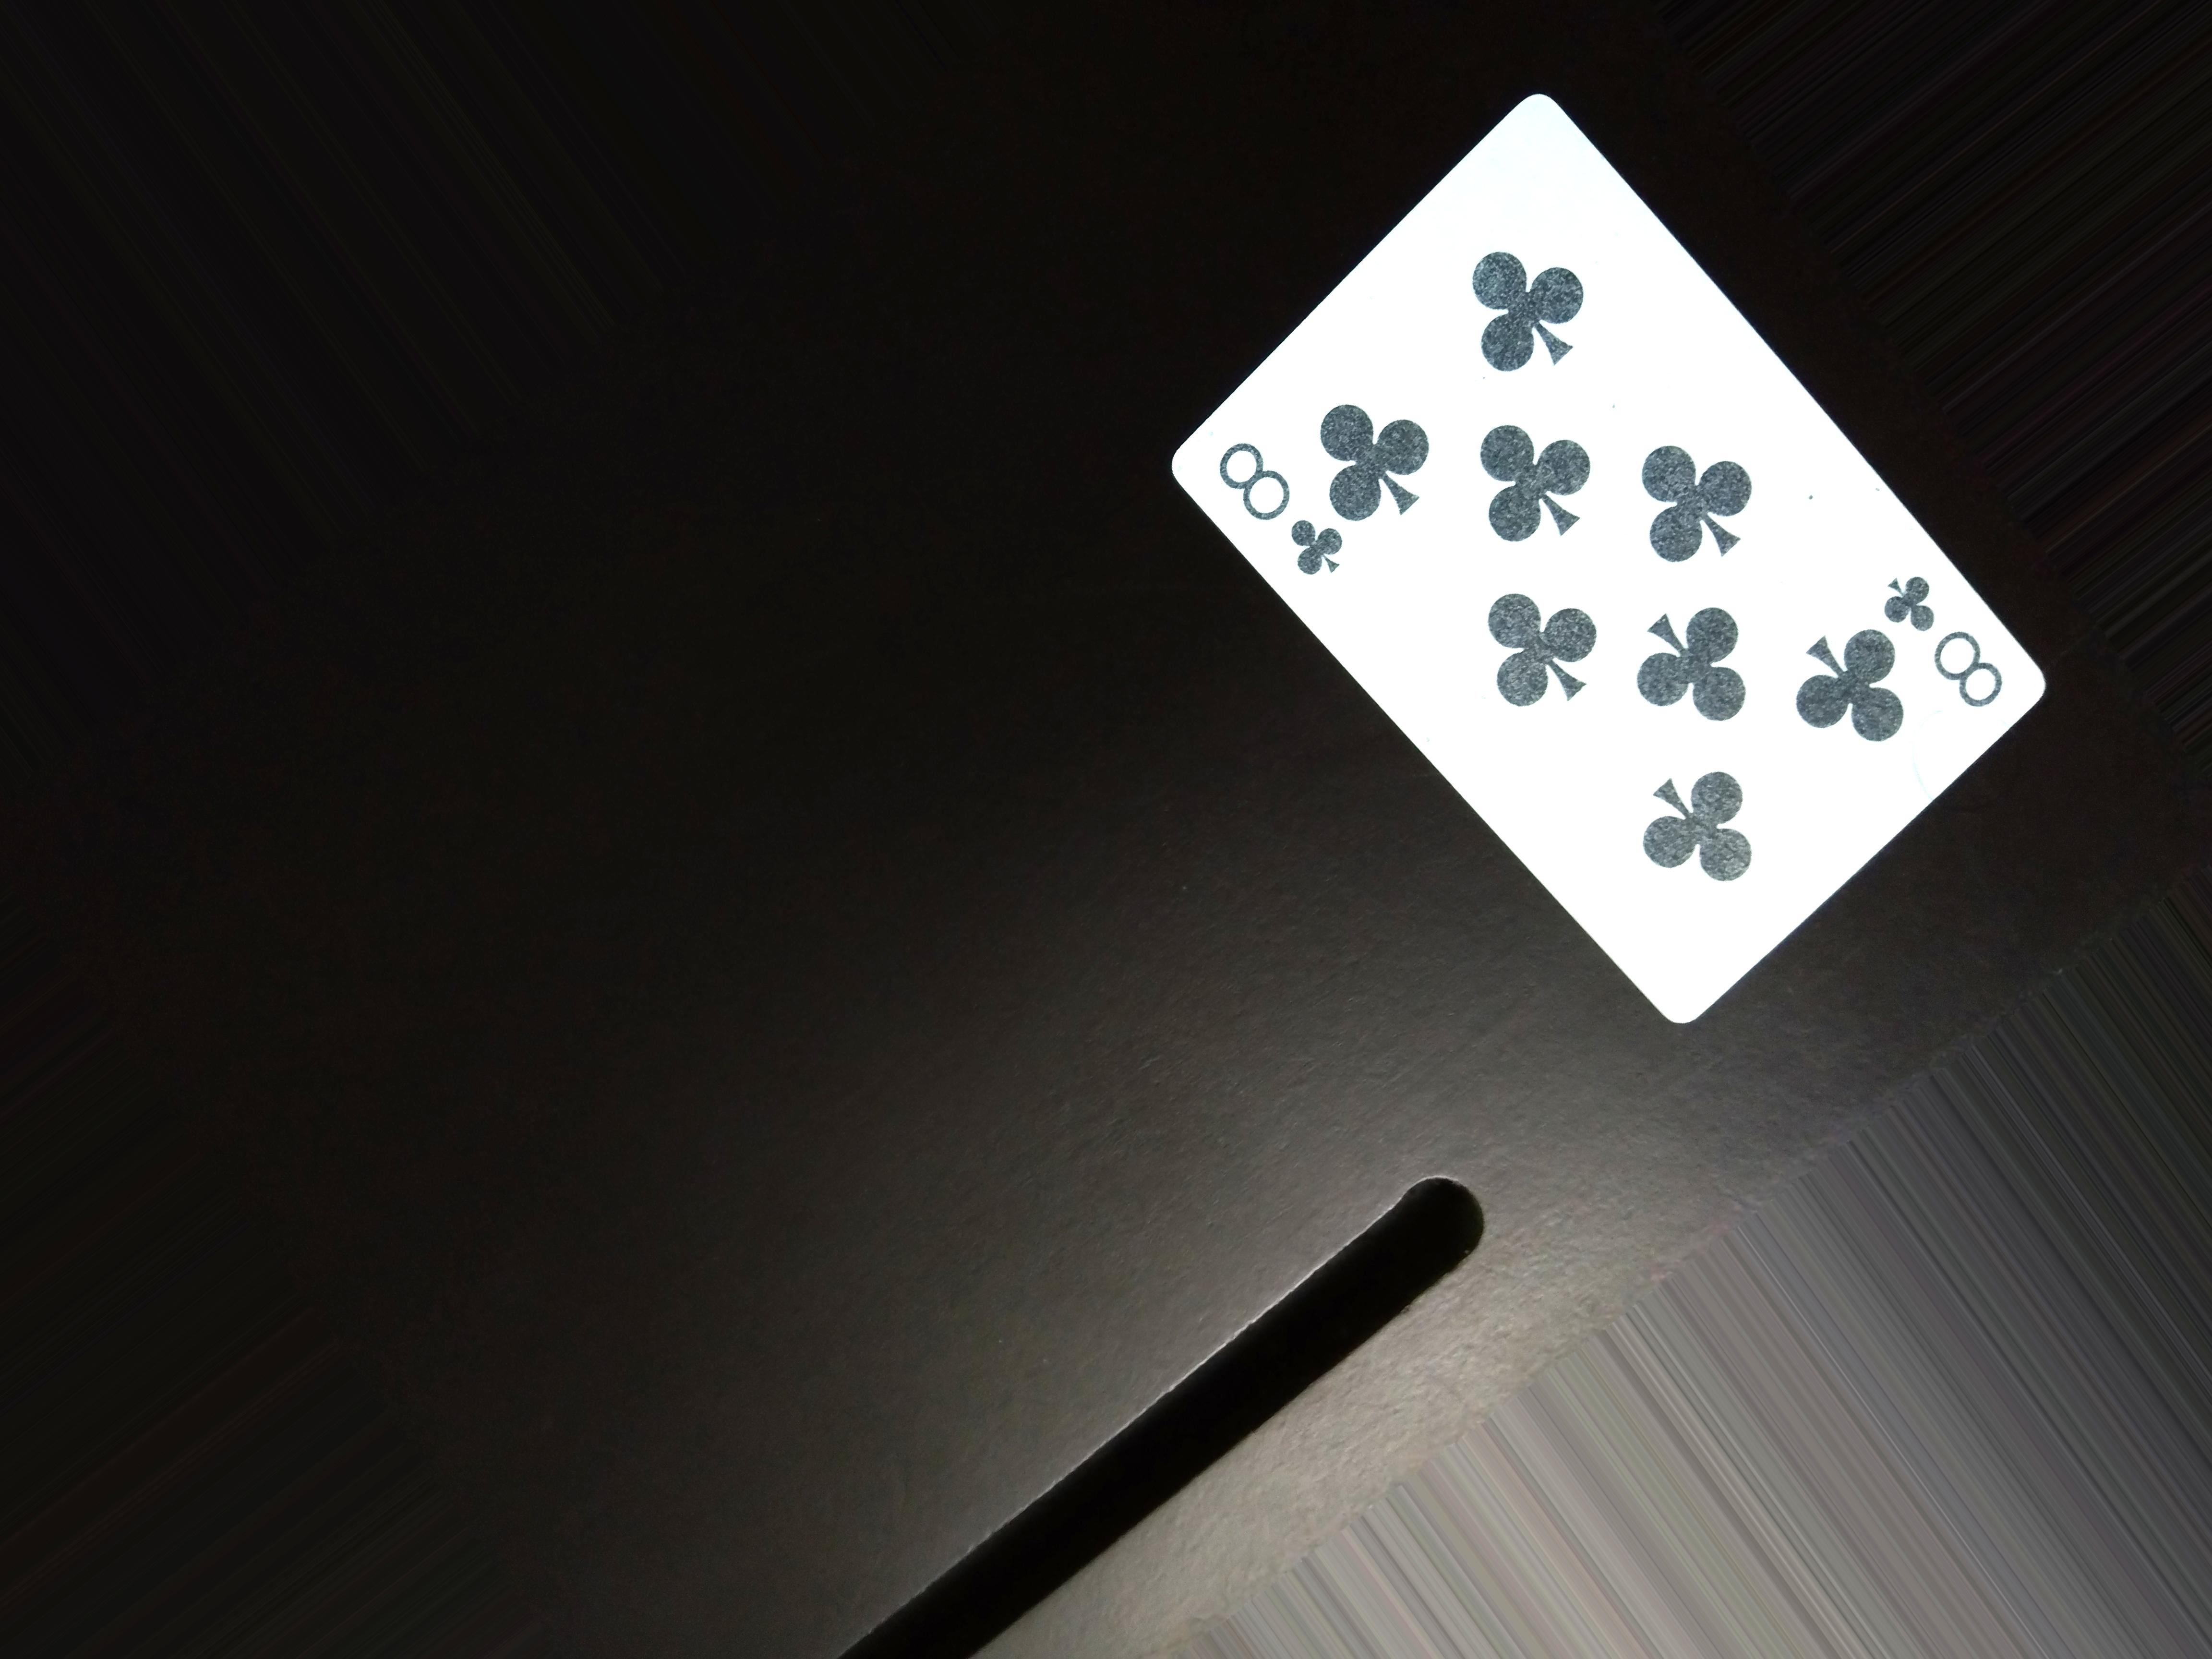8C: (1212, 437, 1379, 596)
